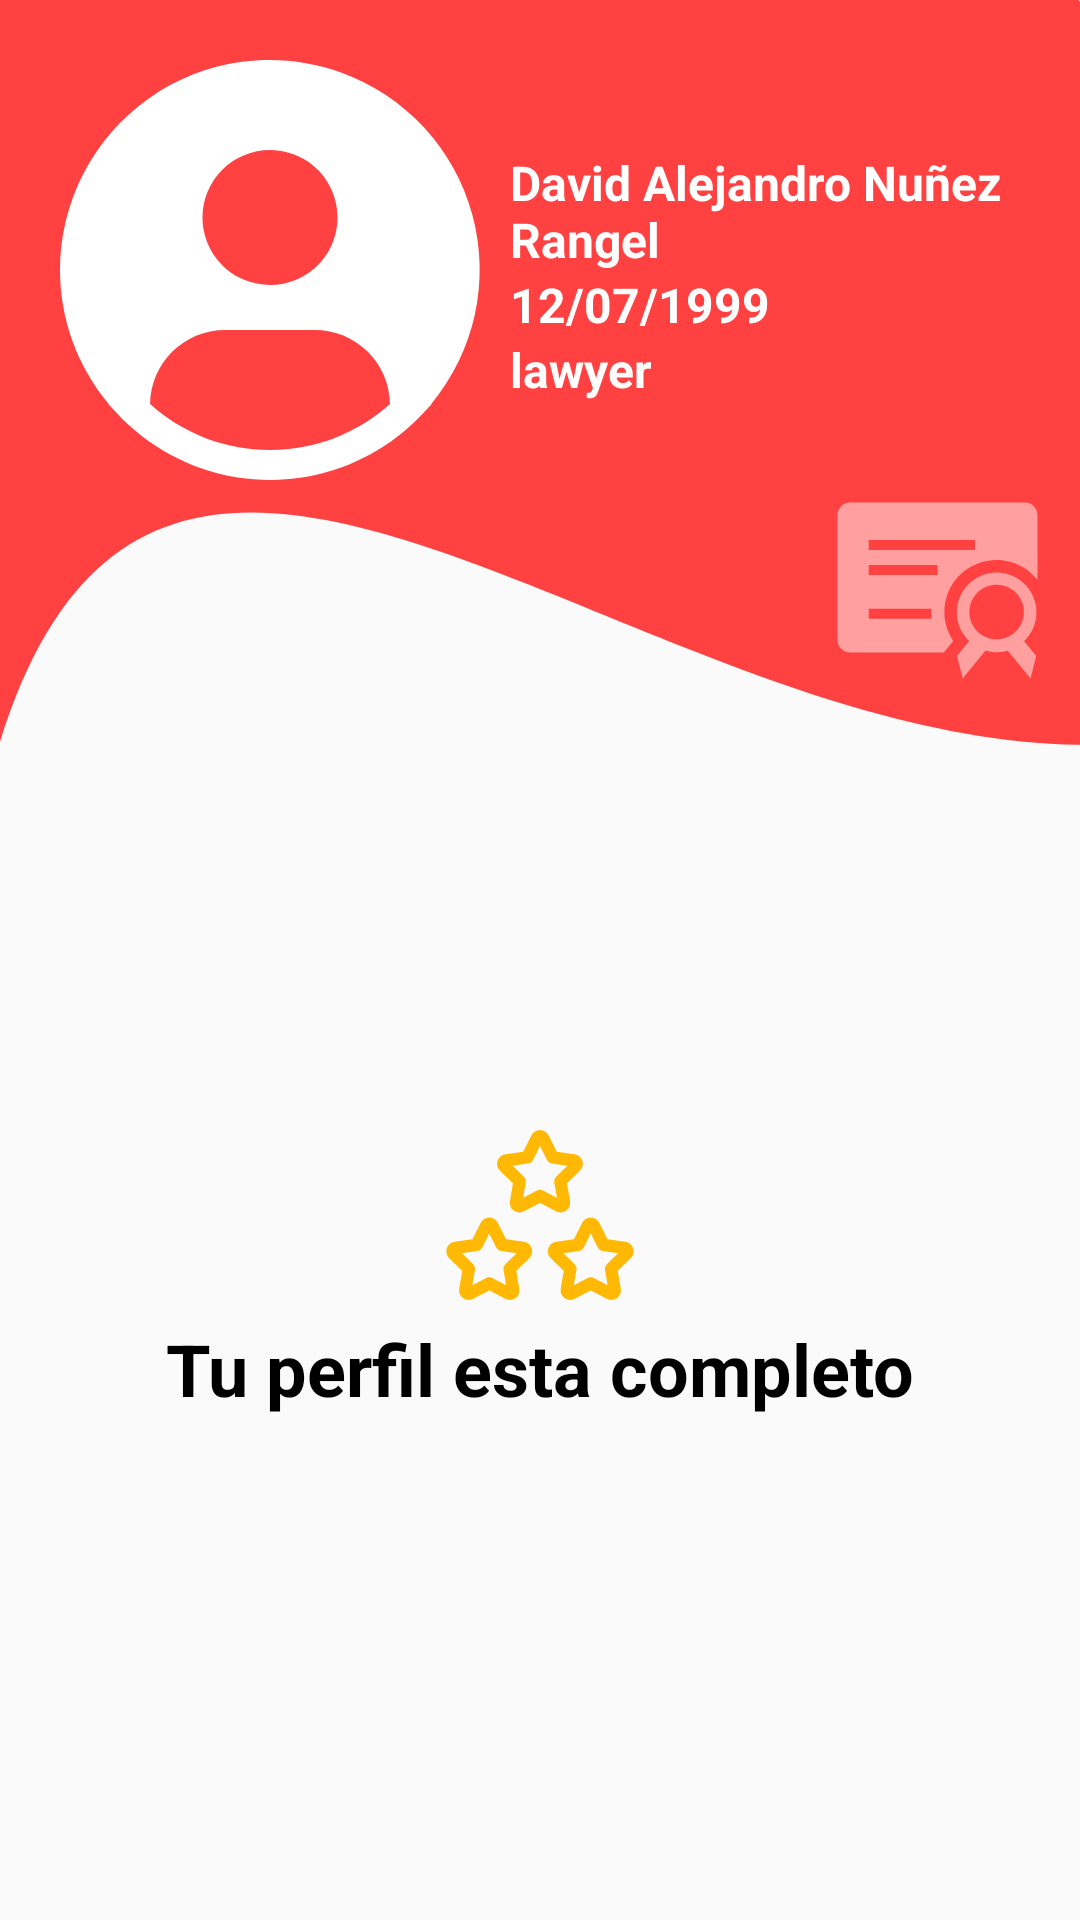

Point at icon controls on the screen. Image size 1080w x 1920h, points as point (x, y).
certificate register: point (937, 590)
stars register: point (540, 1215)
